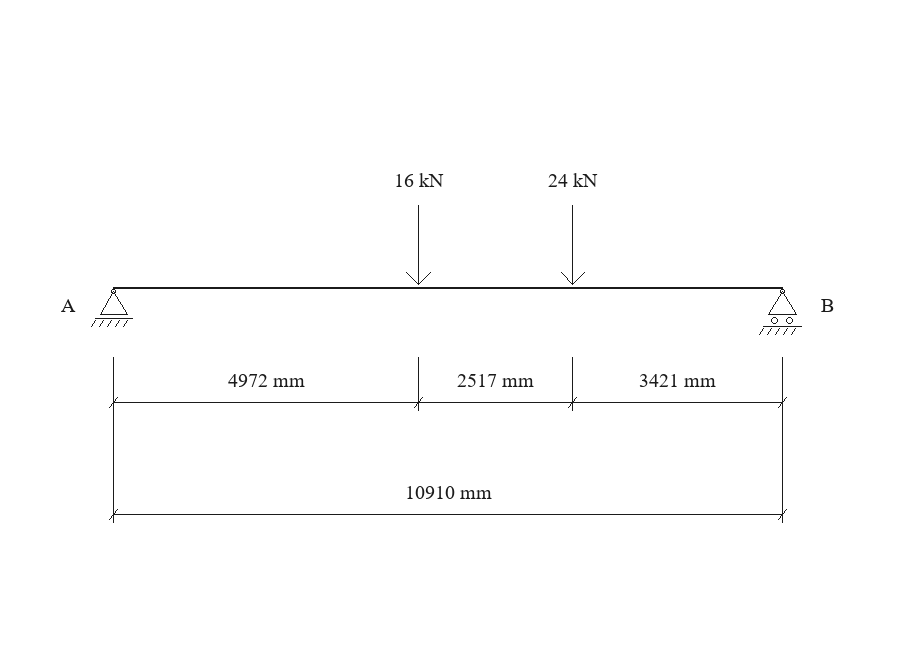pin_support: (91, 289, 133, 327)
point_load: (406, 205, 431, 285), (561, 205, 585, 285)
roller_support: (759, 289, 802, 335)
